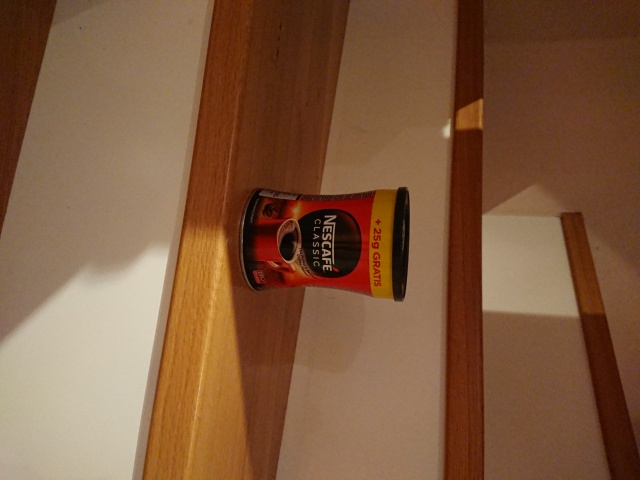Nescafe Classic 225g: (237, 184, 413, 305)
